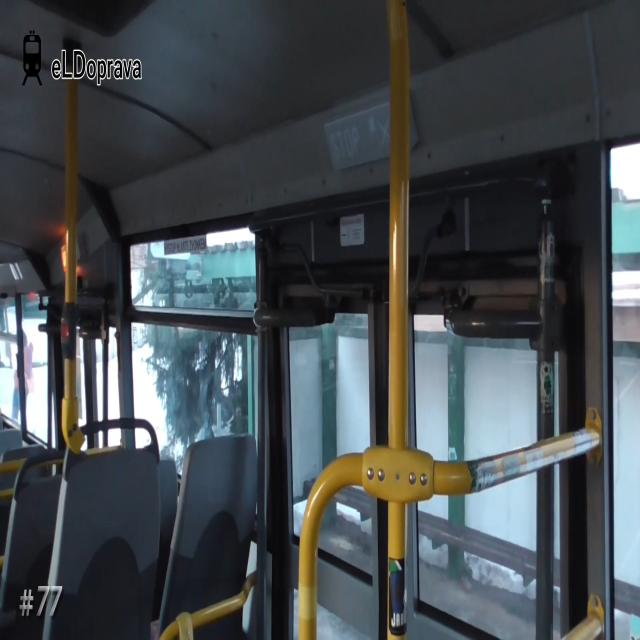bus-door: (273, 225, 571, 640)
